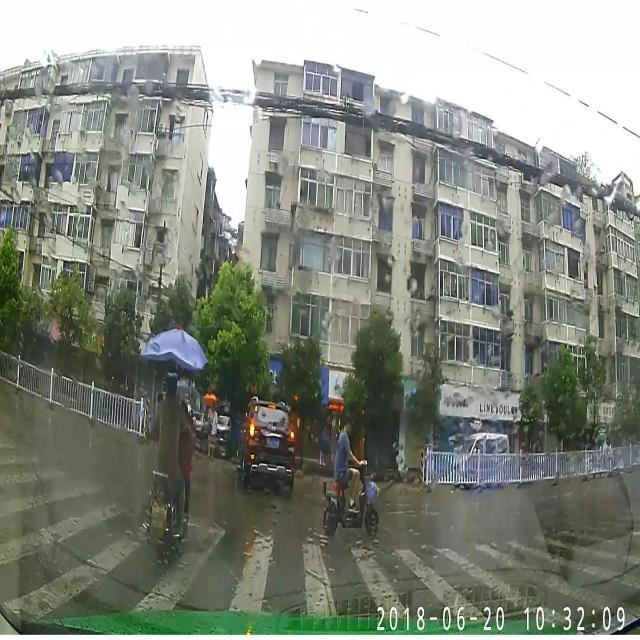car: (240, 397, 296, 490), (456, 432, 509, 488)
